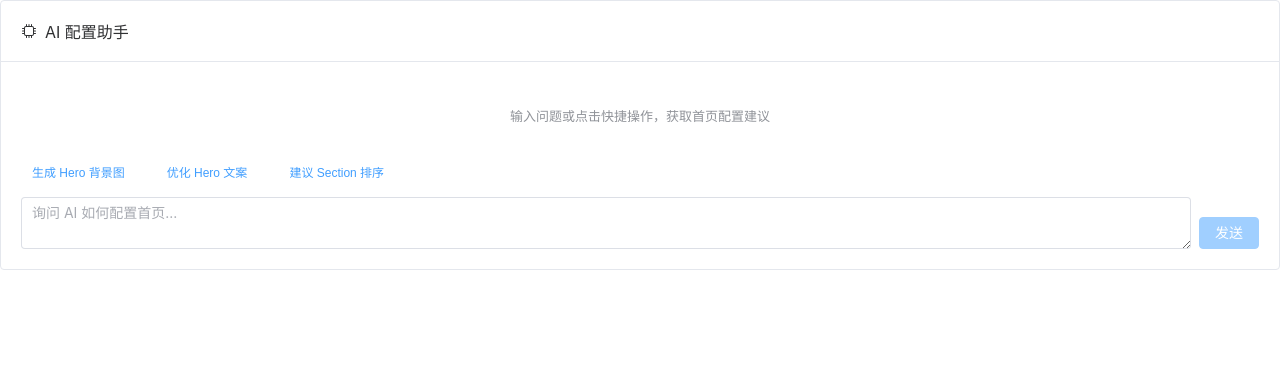
AiConfigAssistant › quick action sends predefined prompt
Step 1. Click the button "优化 Hero 文案" → (207, 173), box [156,161,258,185]
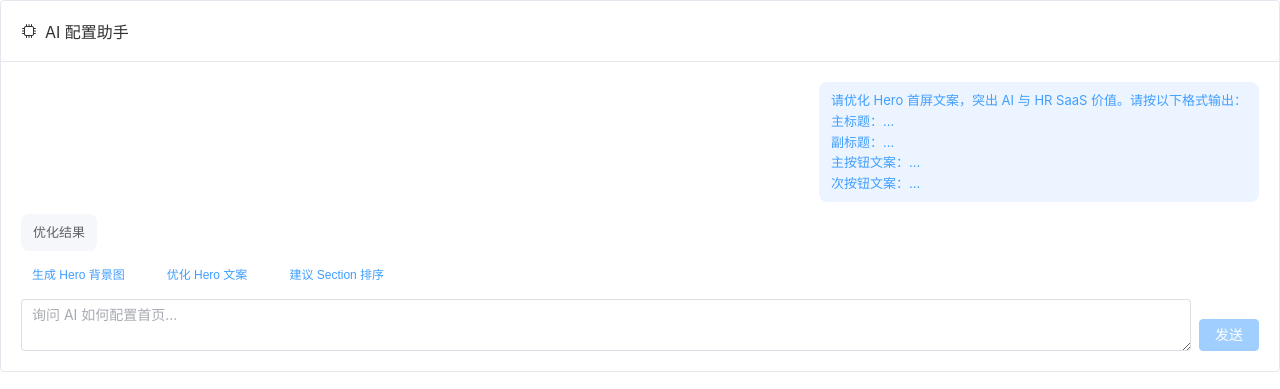
Result: the text "优化结果" is shown at [21,214,97,251]
